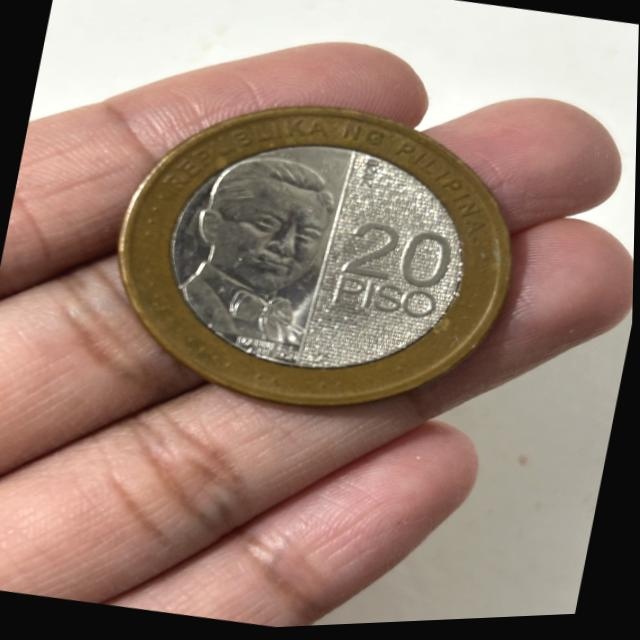20_New_Front: (319, 211, 466, 348)
